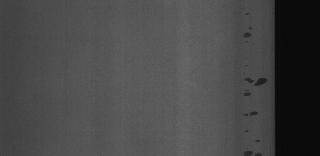oil spot: (243, 12, 257, 48), (242, 72, 270, 88), (240, 146, 260, 156), (242, 110, 258, 122), (240, 90, 256, 96), (242, 131, 254, 137)
